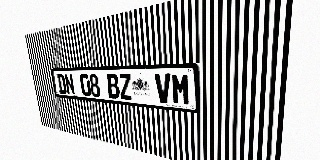0: (79, 74, 91, 97)
8: (88, 73, 101, 98)
B: (106, 73, 120, 99)
D: (57, 74, 67, 94)
M: (171, 73, 190, 106)
N: (64, 74, 75, 95)
V: (154, 73, 172, 104)
Z: (118, 73, 133, 101)
